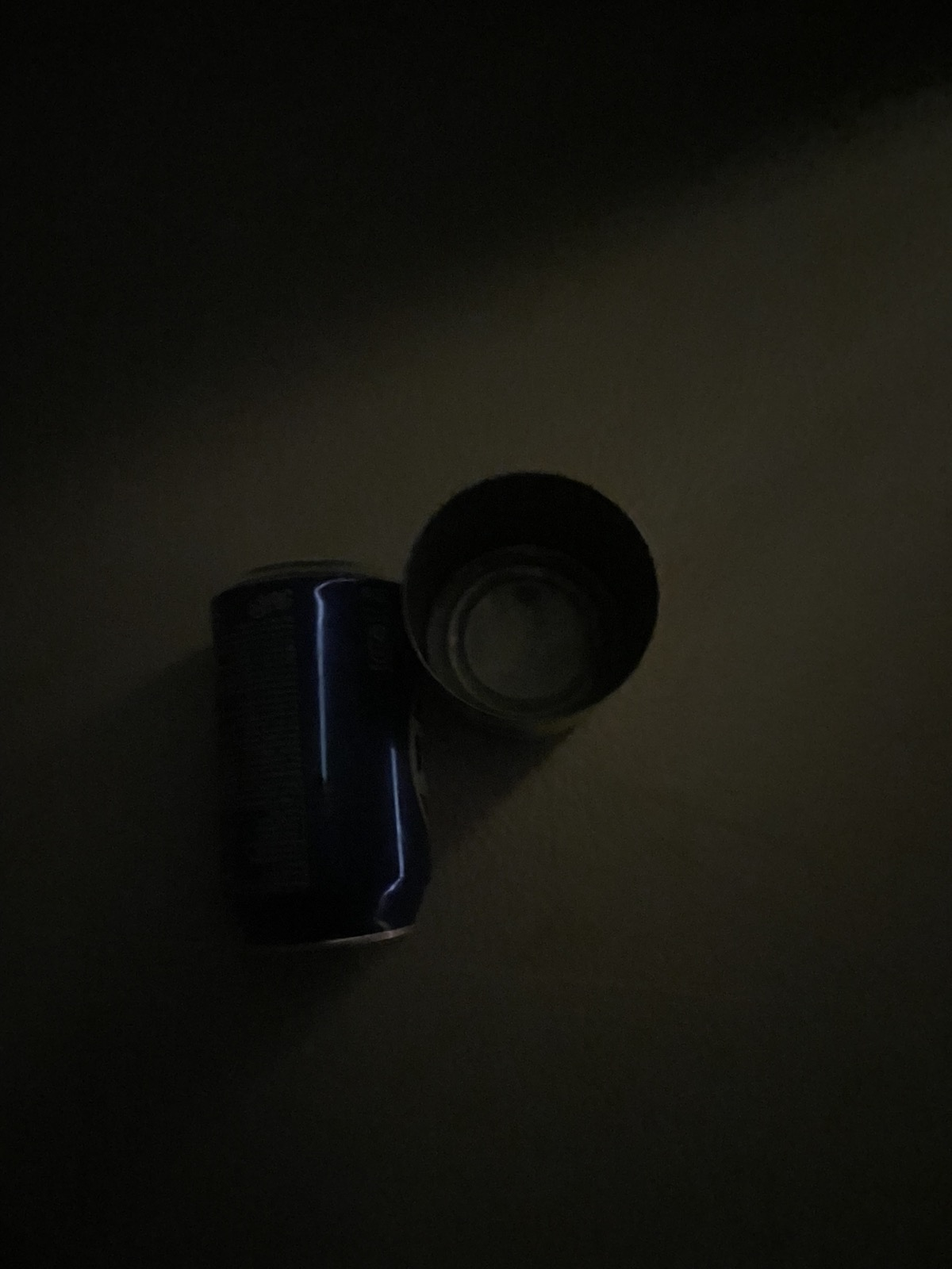konservburk: (403, 465, 665, 734)
pantburk: (415, 544, 815, 772)
